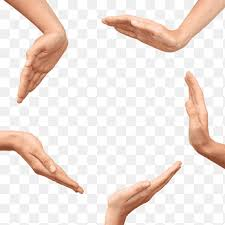no-gloves: (17, 127, 84, 195), (13, 29, 69, 104), (104, 159, 184, 209), (97, 13, 189, 49), (182, 66, 211, 146), (155, 75, 156, 75)
